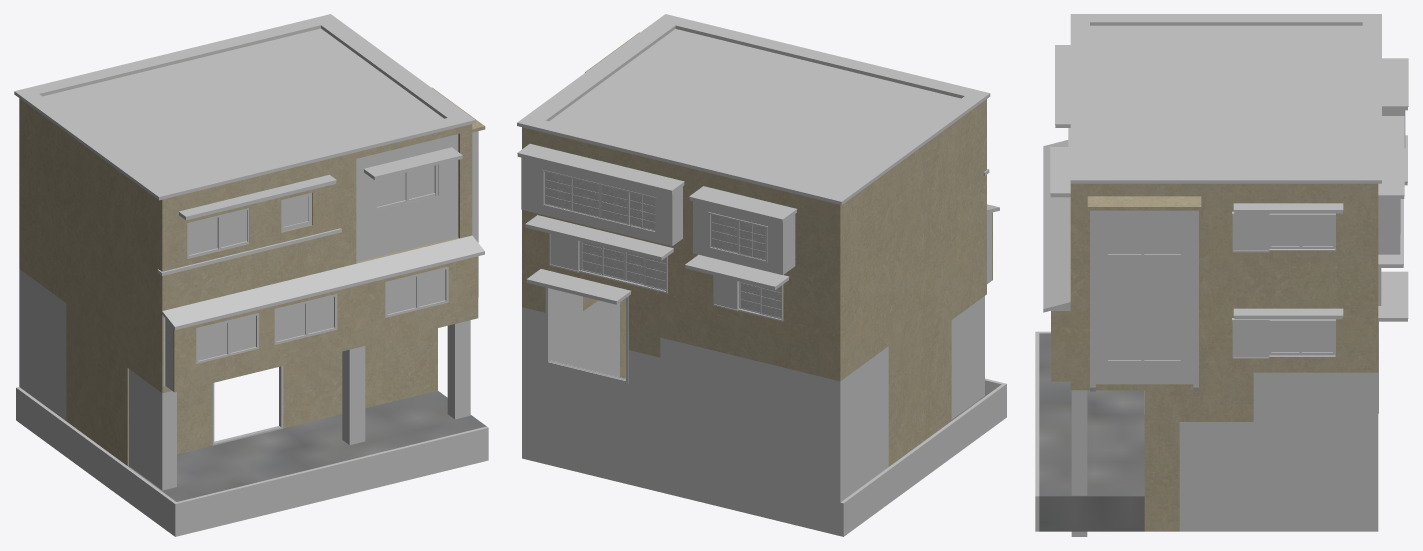
The model's file is JpHouse_23a.fbx.
The picture shows the model from 3 angles, left to right: view 1: azimuth 30°, elevation 25°; view 2: azimuth 150°, elevation 25°; view 3: azimuth 270°, elevation 25°; orthographic projection. The views are drawn at different scales.
Visible parts, largest first — view 1: JpHouse_23a; view 2: JpHouse_23a; view 3: JpHouse_23a.
Boxes of the visible parts, x1,y1,x2,y2 form: JpHouse_23a: (14,14,488,536); JpHouse_23a: (517,14,1006,536); JpHouse_23a: (1035,14,1408,536).
Bounding box in the file's own units: 10.66 × 10.17 × 9.58.
